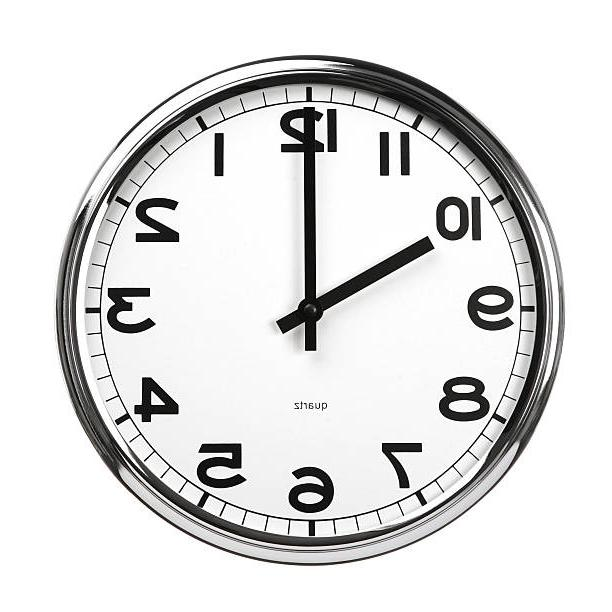clock: (51, 44, 563, 568)
